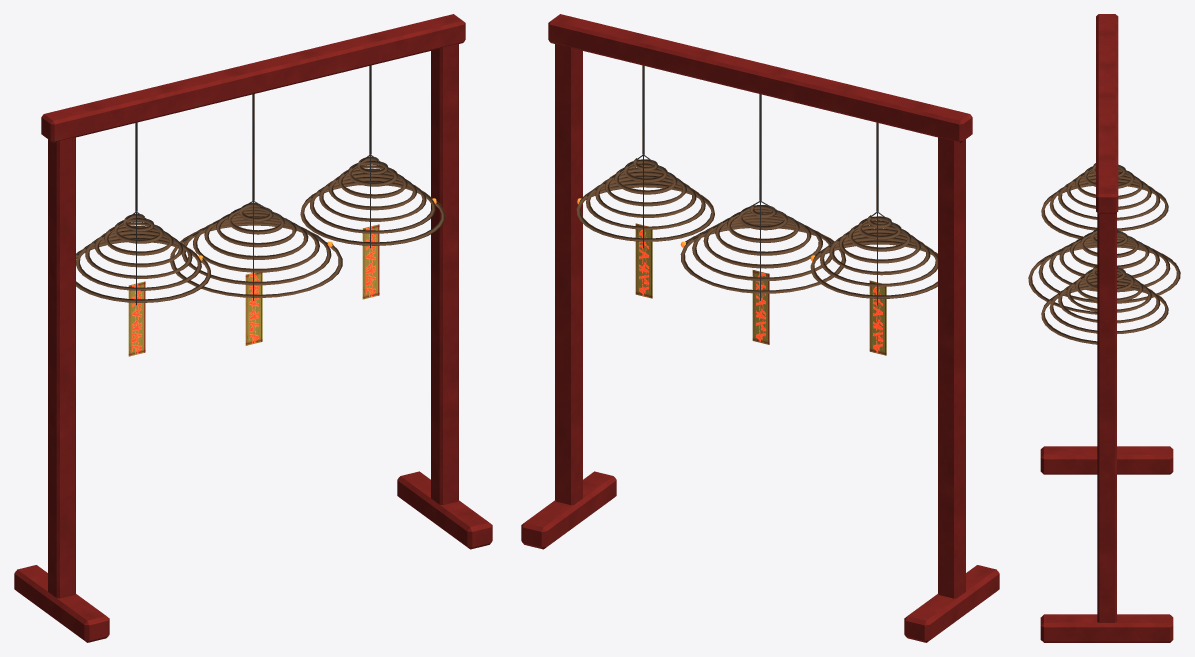
The model's file is incense_coils.glb.
The picture shows the model from 3 angles, left to right: view 1: azimuth 30°, elevation 25°; view 2: azimuth 150°, elevation 25°; view 3: azimuth 270°, elevation 25°; orthographic projection. The views are drawn at different scales.
Visible parts, largest first — view 1: CoilFrame, IncenseCoils, PrayerTags, CoilHangers; view 2: CoilFrame, IncenseCoils, PrayerTags, CoilHangers; view 3: CoilFrame, IncenseCoils, CoilHangers.
Boxes of the visible parts, x1,y1,x2,y2 form: CoilFrame: (14, 14, 492, 642); IncenseCoils: (76, 156, 444, 302); PrayerTags: (128, 224, 379, 356); CoilHangers: (77, 65, 426, 305); CoilFrame: (521, 14, 999, 642); IncenseCoils: (576, 158, 937, 298); PrayerTags: (635, 223, 886, 355); CoilHangers: (587, 65, 937, 305); CoilFrame: (1040, 14, 1173, 642); IncenseCoils: (1028, 163, 1180, 344); CoilHangers: (1040, 165, 1176, 300).
Size of what is drawn, in the model's own units: 1.95 by 2.25 by 0.689.
5 materials, 3 textured.
